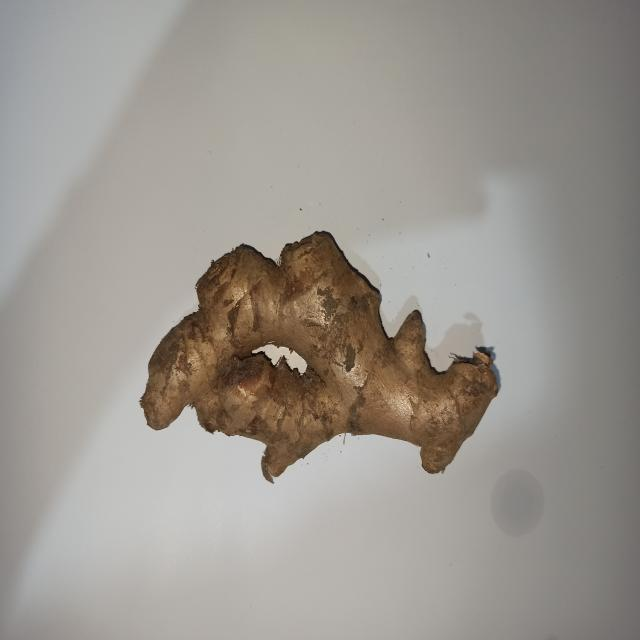ginger: (152, 238, 489, 473)
